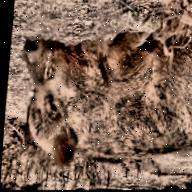boar: (11, 28, 192, 174)
